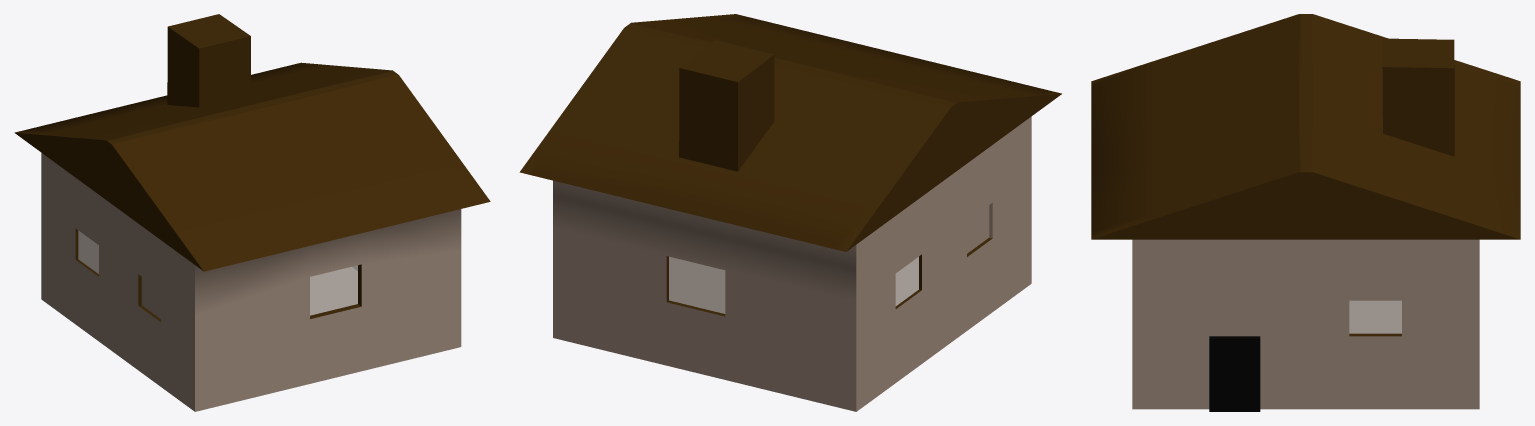
The model's file is house.fbx.
The picture shows the model from 3 angles, left to right: view 1: azimuth 30°, elevation 25°; view 2: azimuth 150°, elevation 25°; view 3: azimuth 270°, elevation 25°; orthographic projection. The views are drawn at different scales.
Visible parts, largest first — view 1: pCube1; view 2: pCube1; view 3: pCube1.
Boxes of the visible parts, bbox=[...] form: pCube1: bbox=[14, 14, 490, 411]; pCube1: bbox=[519, 14, 1061, 411]; pCube1: bbox=[1091, 14, 1520, 411].
Size of the model in its own units: 10.77 by 9.13 by 12.36.
